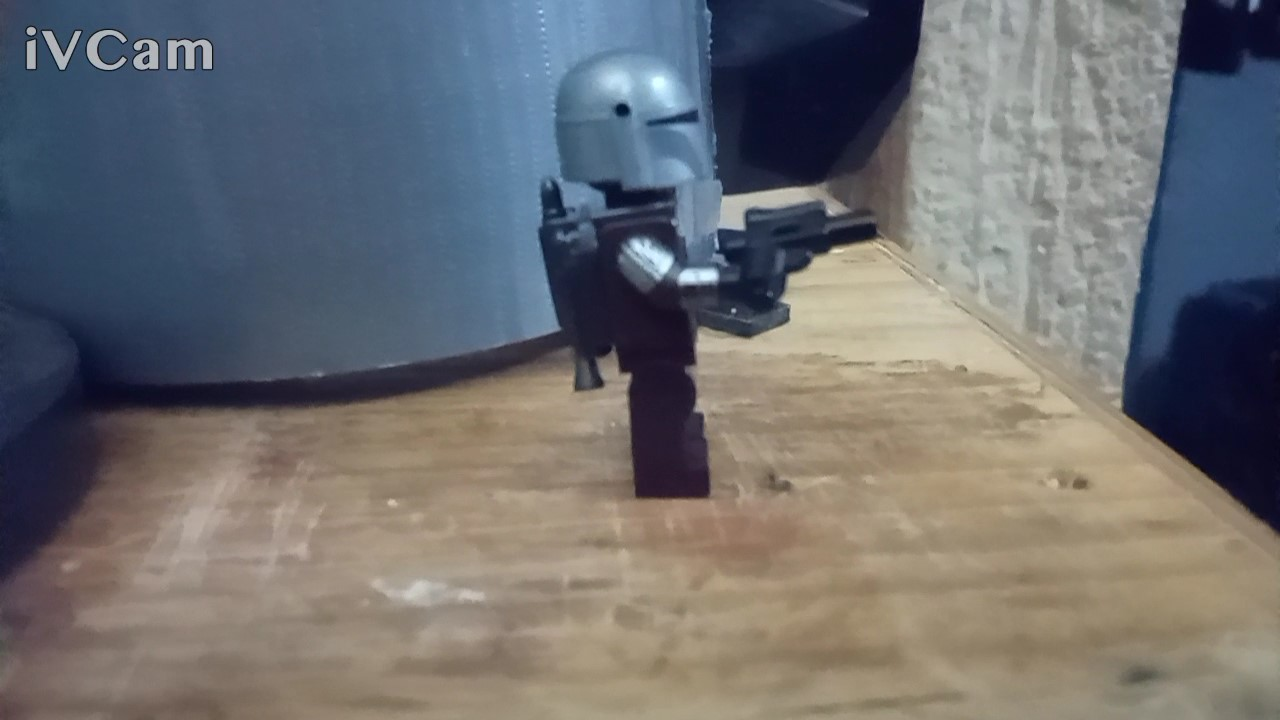mandalorian: (500, 39, 920, 511)
